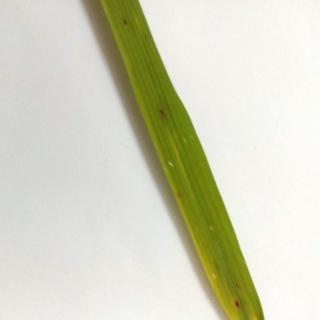bercak-Cokelat: (156, 101, 170, 124), (118, 14, 137, 30), (230, 294, 244, 314)
